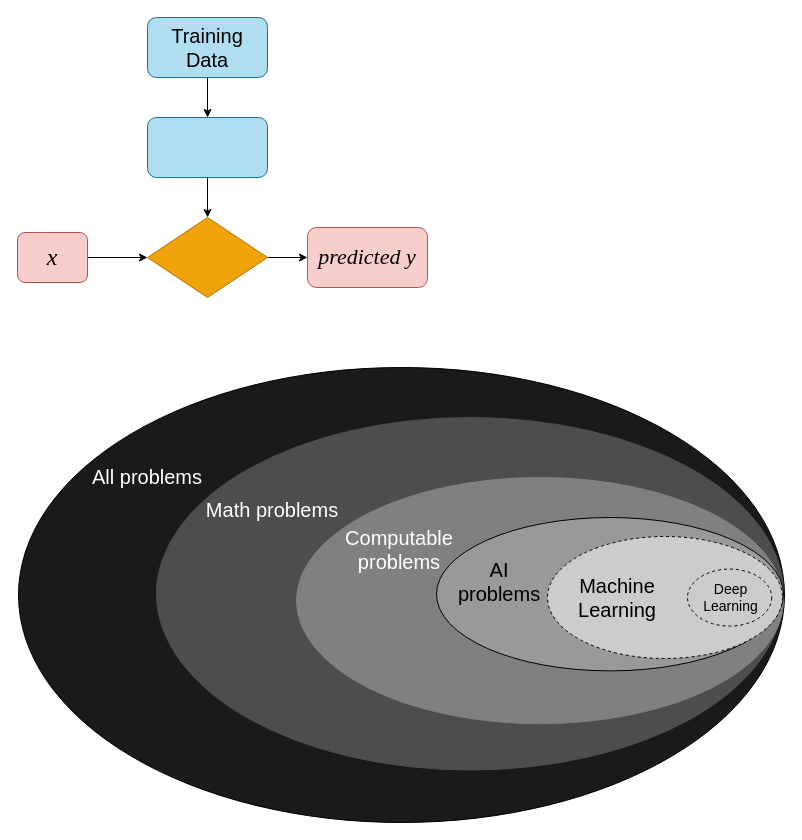
This 802x840 diagram has some shape labels left out. The shapes that lost their labels are listed below. From the top down, each one's box as (x1, y1, x2, y2) in pixels, then its label:
(146, 116, 268, 178): Learning Algorithm
(146, 216, 268, 298): f(x)
